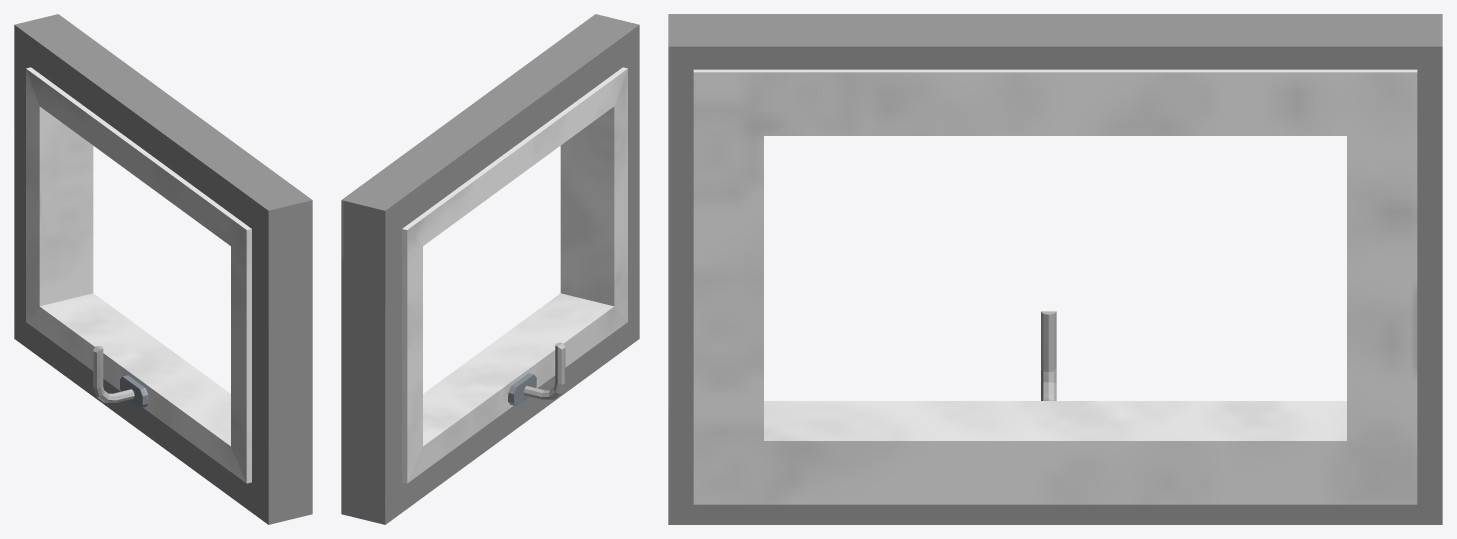
Rendered from Windows_1x0.6816.fbx.
The picture shows the model from 3 angles, left to right: view 1: azimuth 30°, elevation 25°; view 2: azimuth 150°, elevation 25°; view 3: azimuth 270°, elevation 25°; orthographic projection. The views are drawn at different scales.
Visible parts, largest first — view 1: Win, Win move; view 2: Win, Win move; view 3: Win move, Win.
Boxes of the visible parts, box(x1,y1,x2,y2) form: Win: box(14, 14, 312, 524); Win move: box(26, 67, 251, 483); Win: box(341, 14, 639, 524); Win move: box(402, 67, 627, 483); Win move: box(693, 69, 1417, 504); Win: box(668, 14, 1442, 524).
Bounding box in the file's own units: 22.16 × 68.16 × 100.
